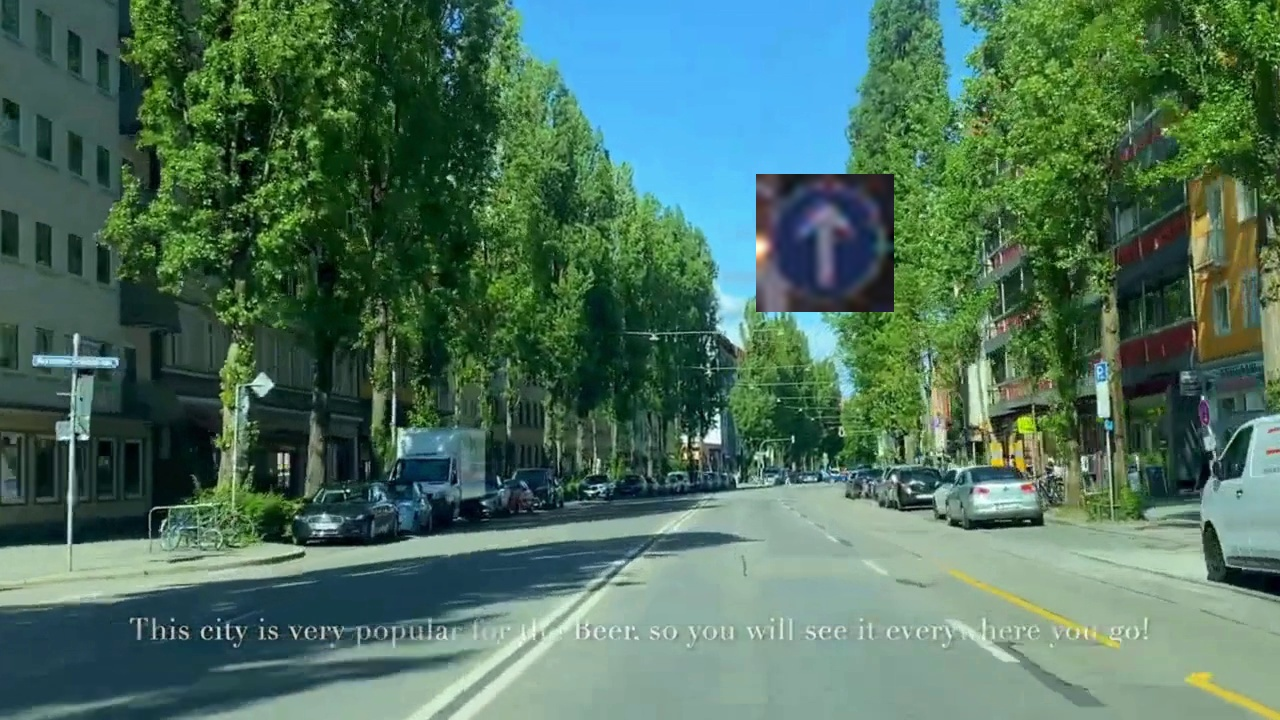Ahead only: (756, 174, 894, 312)
